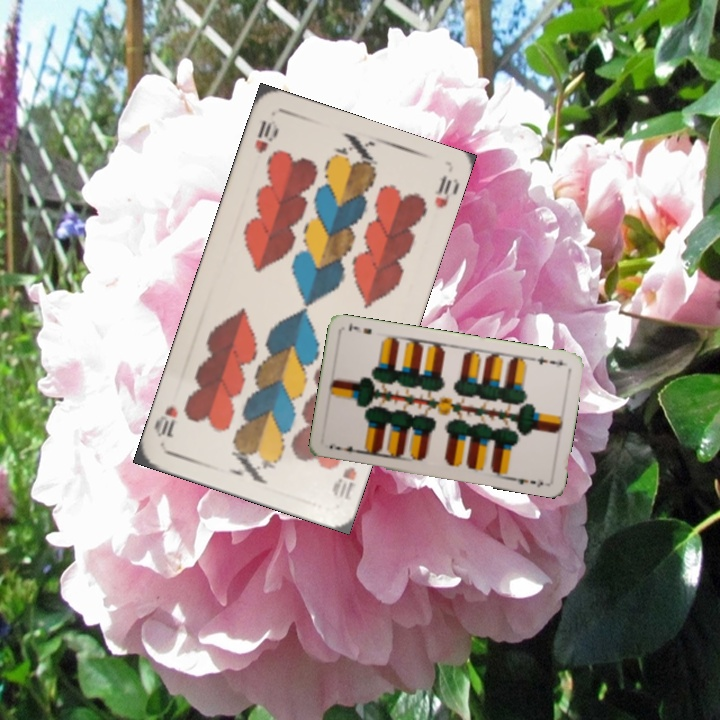E7: (533, 352, 566, 369), (331, 442, 364, 456)
H10: (328, 463, 359, 503), (250, 116, 281, 156)
